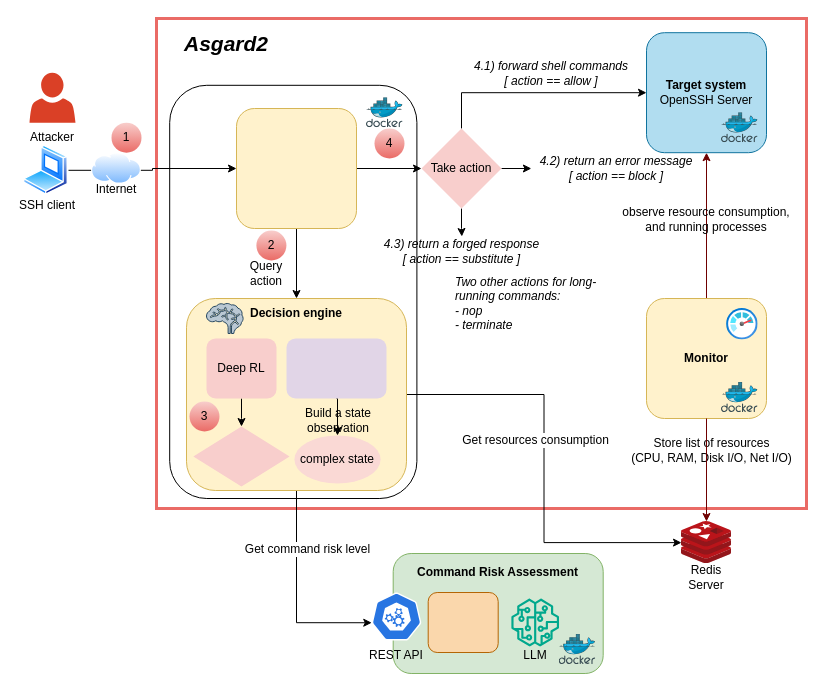
This 825x691 diagram has some shape labels left out. The shapes that lost their labels are listed below. From the top down, each one's centre as x and y in pixels, then its label:
(x=296, y=168): Proxy SSH Proxy
(x=336, y=368): Environment
(x=241, y=456): Make decision
(x=462, y=622): Web server Nginx
